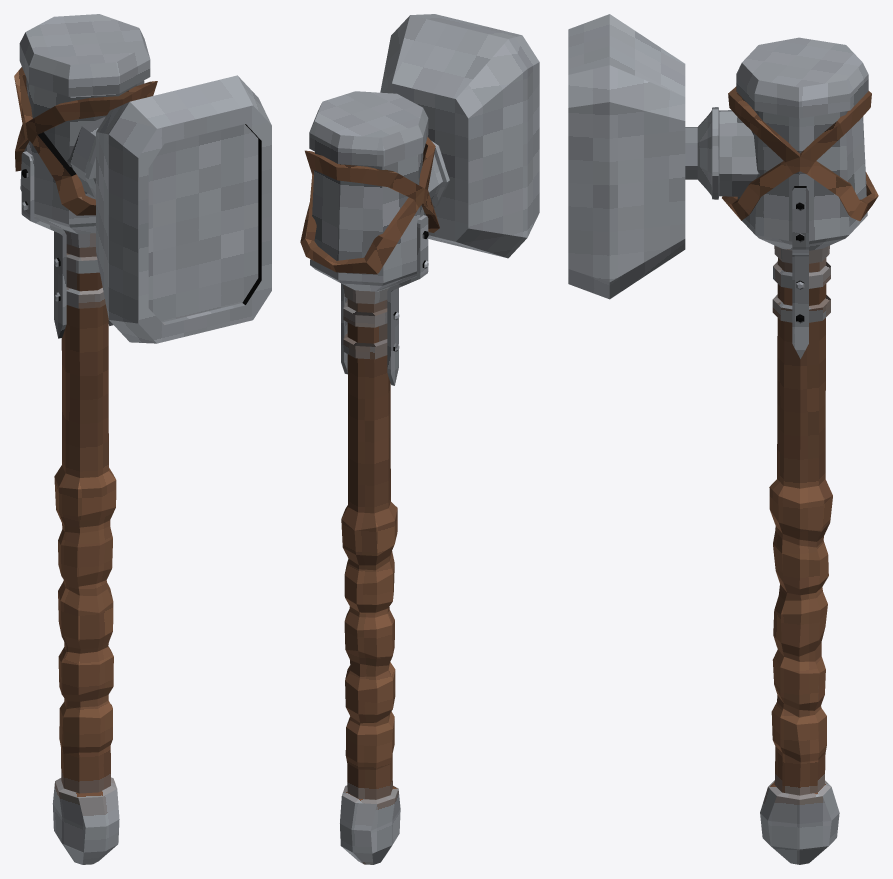
File: hammer_small.glb
The picture shows the model from 3 angles, left to right: view 1: azimuth 30°, elevation 25°; view 2: azimuth 150°, elevation 25°; view 3: azimuth 270°, elevation 25°; orthographic projection. The views are drawn at different scales.
Visible parts, largest first — view 1: Hammer_small; view 2: Hammer_small; view 3: Hammer_small.
Boxes of the visible parts, x1,y1,x2,y2 form: Hammer_small: (14, 14, 271, 864); Hammer_small: (300, 14, 539, 864); Hammer_small: (568, 14, 878, 864).
Size of the model in its own units: 0.1396 by 0.75 by 0.2575.
1 material, 1 textured.
